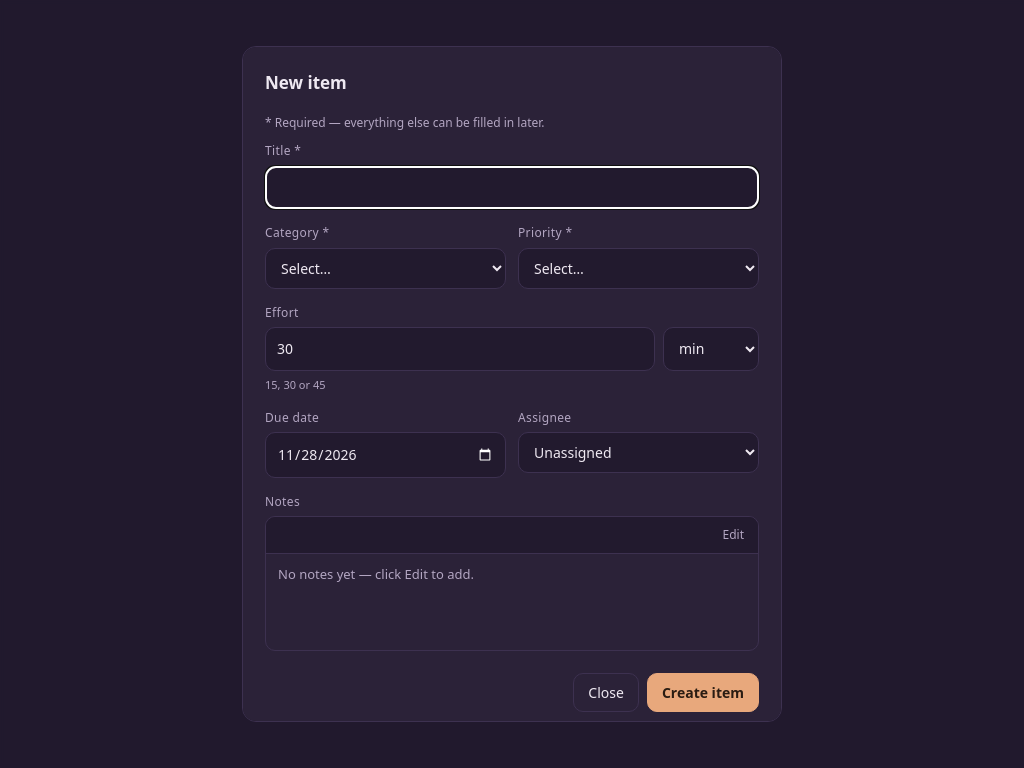
ItemFormModal — dirty tracking and close confirmation › editing a field flips the close button to Discard and shows Unsaved changes
Type "X" into the field labelled "Title *" at (512, 187), box [265,166,759,209]
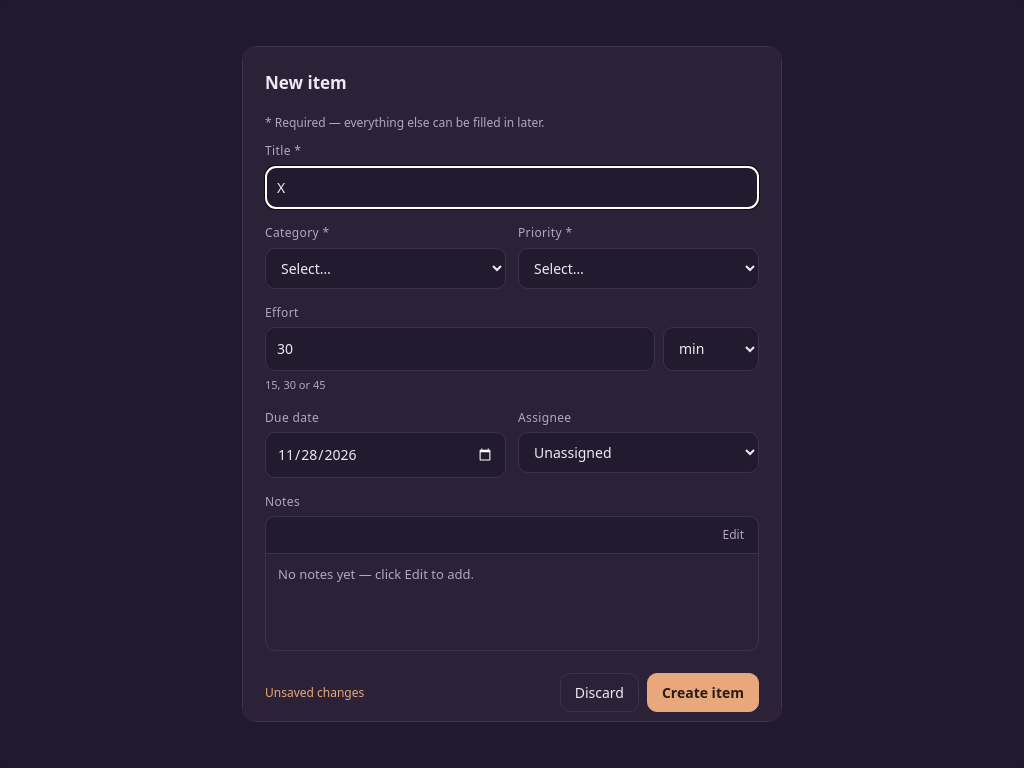
Result: the text "Unsaved changes" is shown at [265,683,364,703]
Result: the button "Discard" is shown at [560,673,639,712]
